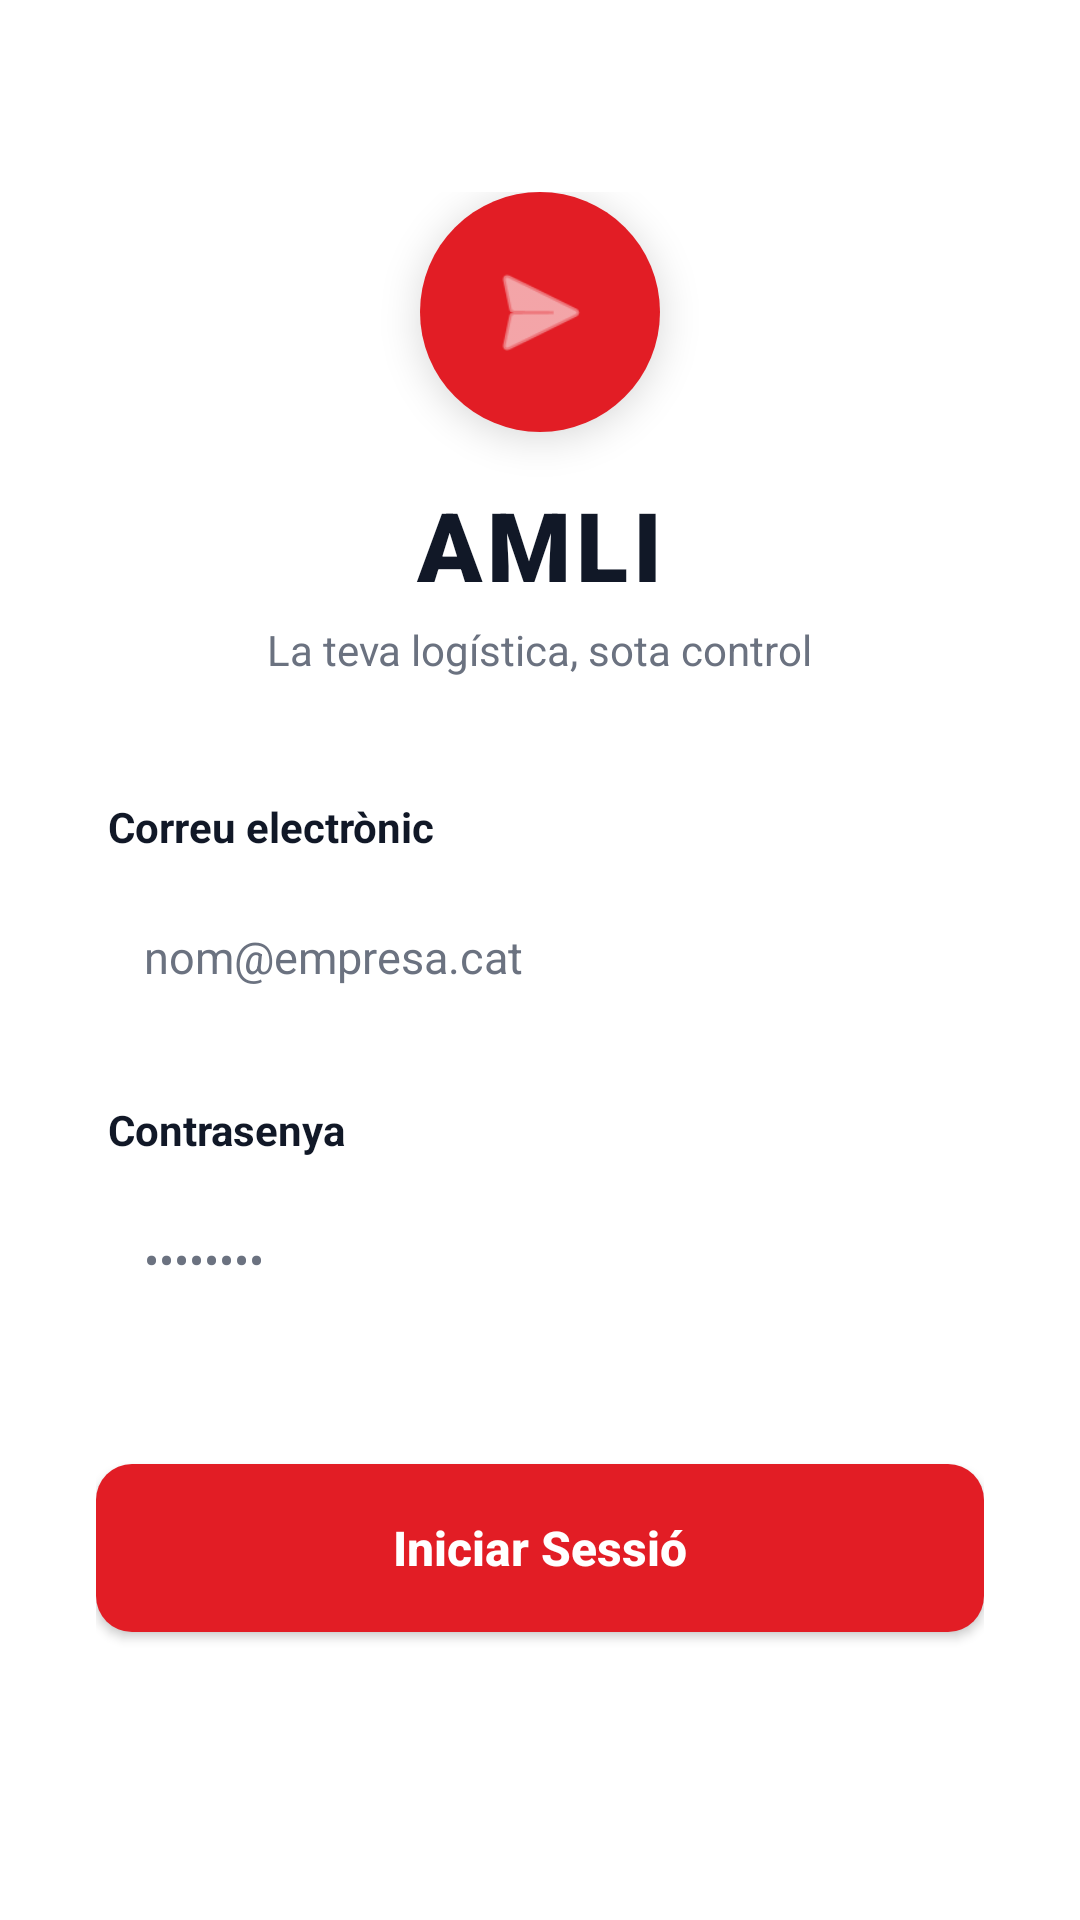

Where icons sit on this 1080px x 1920px app screen, as (x1, y1, x2, y2):
send: (503, 275, 580, 351)
